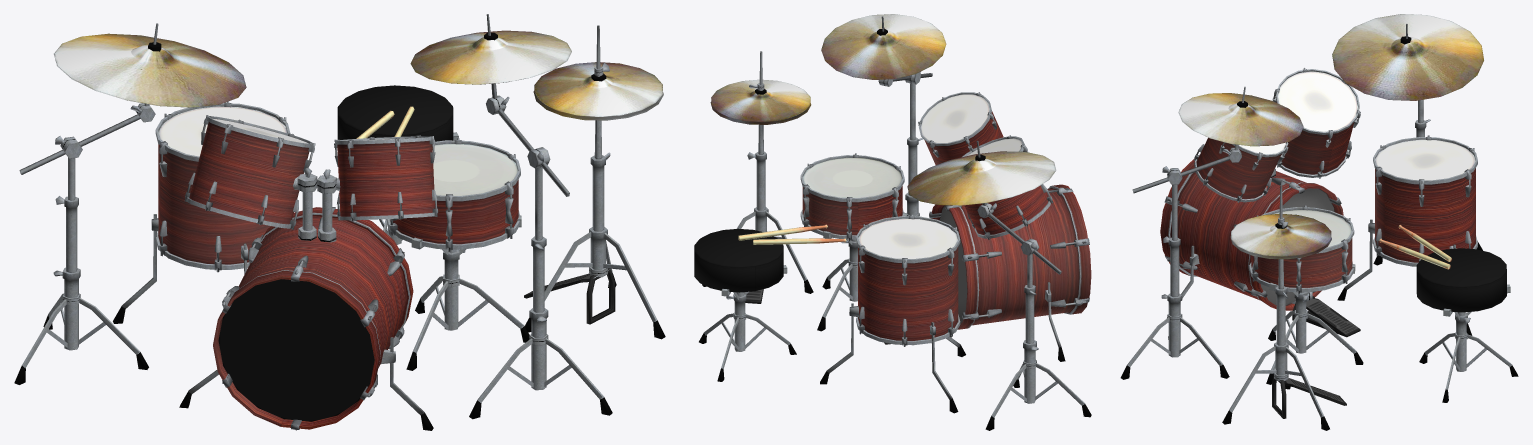
The model's file is Drum.fbx.
3 views of the same model, side by side, from view 1: azimuth 30°, elevation 25°; view 2: azimuth 150°, elevation 25°; view 3: azimuth 270°, elevation 25° (orthographic). The views are drawn at different scales.
Visible parts, largest first — view 1: Drums; view 2: Drums, Drumsticks.001, Drumsticks; view 3: Drums, Drumsticks.
Boxes of the visible parts, x1,y1,x2,y2 form: Drums: (14,14,665,430); Drums: (694,14,1091,430); Drumsticks.001: (753,238,846,244); Drumsticks: (738,224,827,240); Drums: (1120,14,1518,430); Drumsticks: (1379,238,1450,269).
Size of the model in its own units: 211 by 127 by 166.
